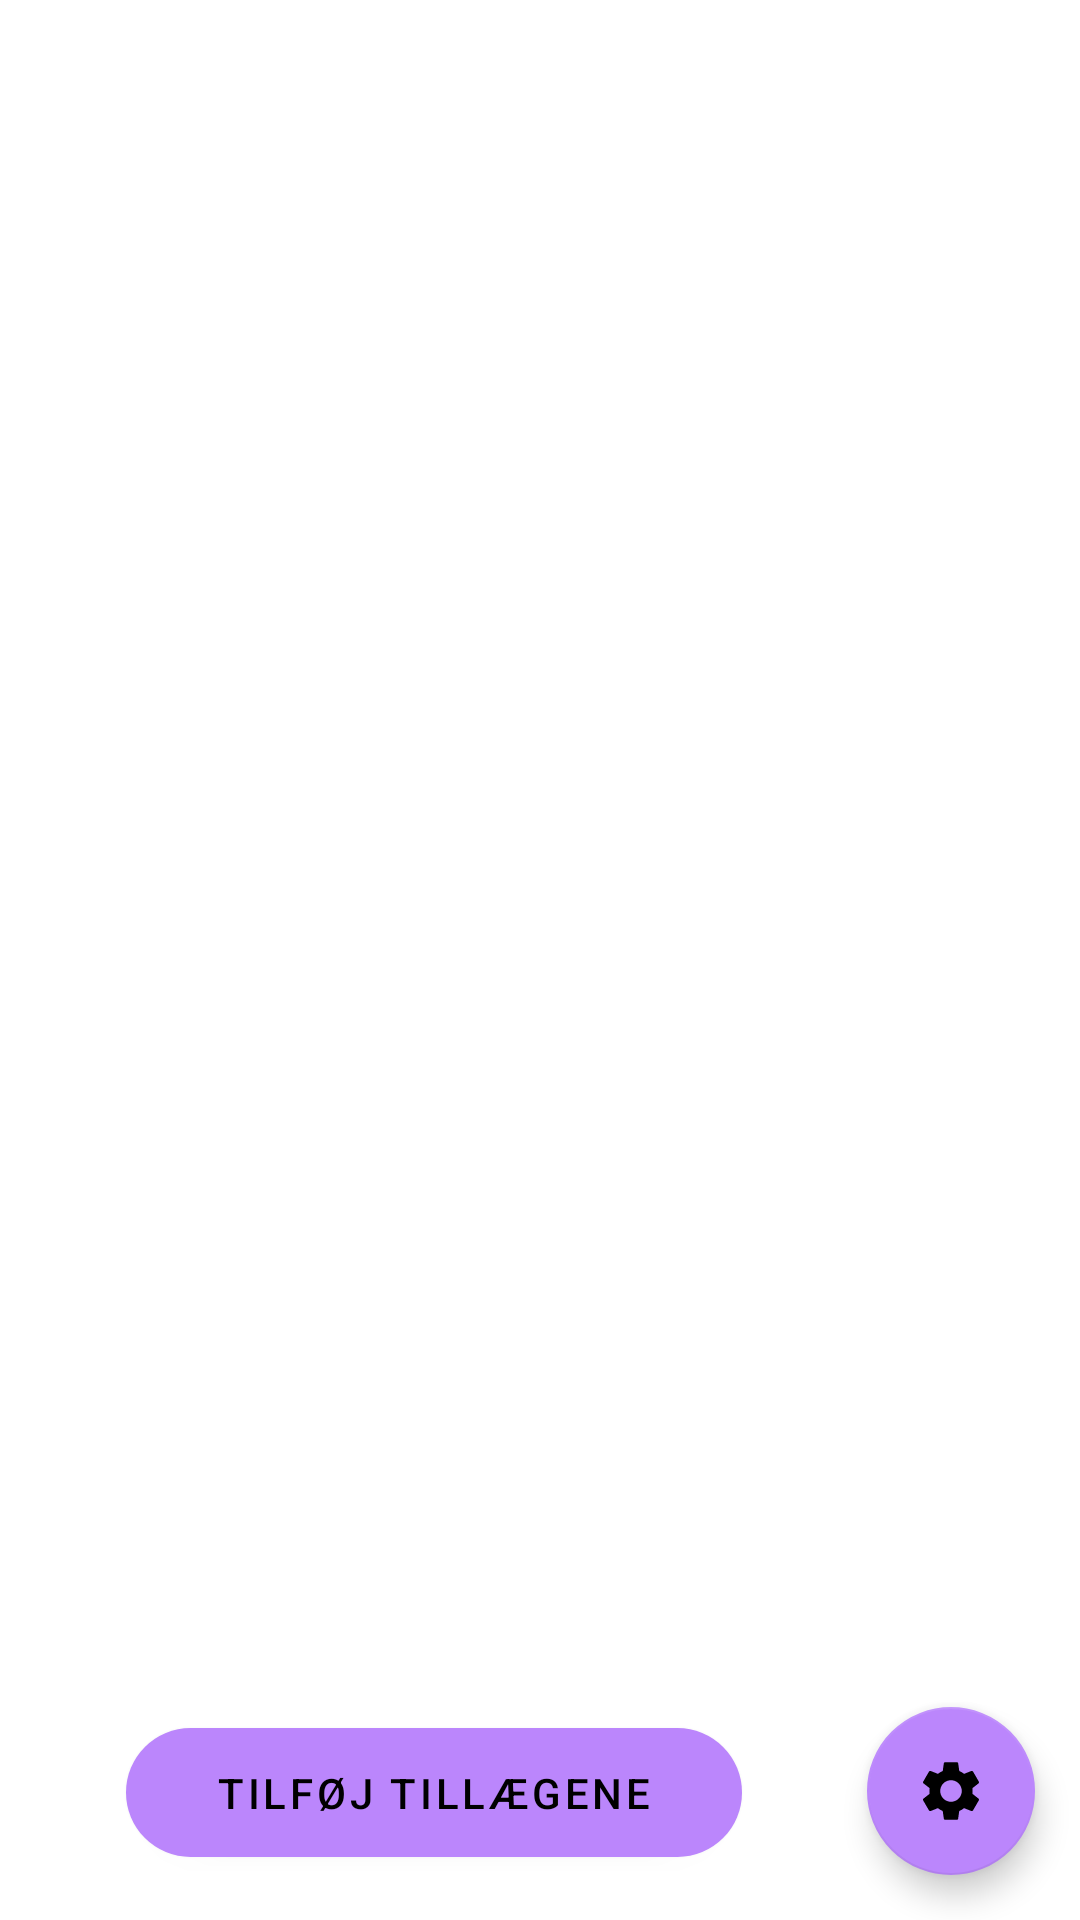

Named icons in this screenshot (1080*1920) and their bounding boxes, box(x1, y1, x2, y2):
settings: box(867, 1707, 1035, 1875)
